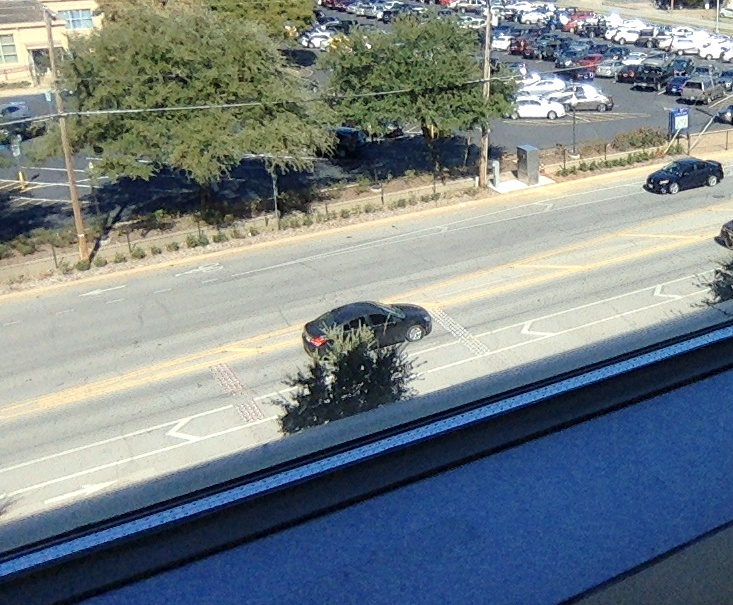car: (300, 300, 433, 360)
